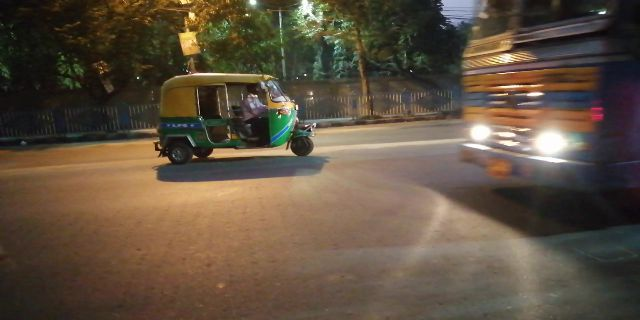Autorickshaw: (154, 73, 316, 168)
